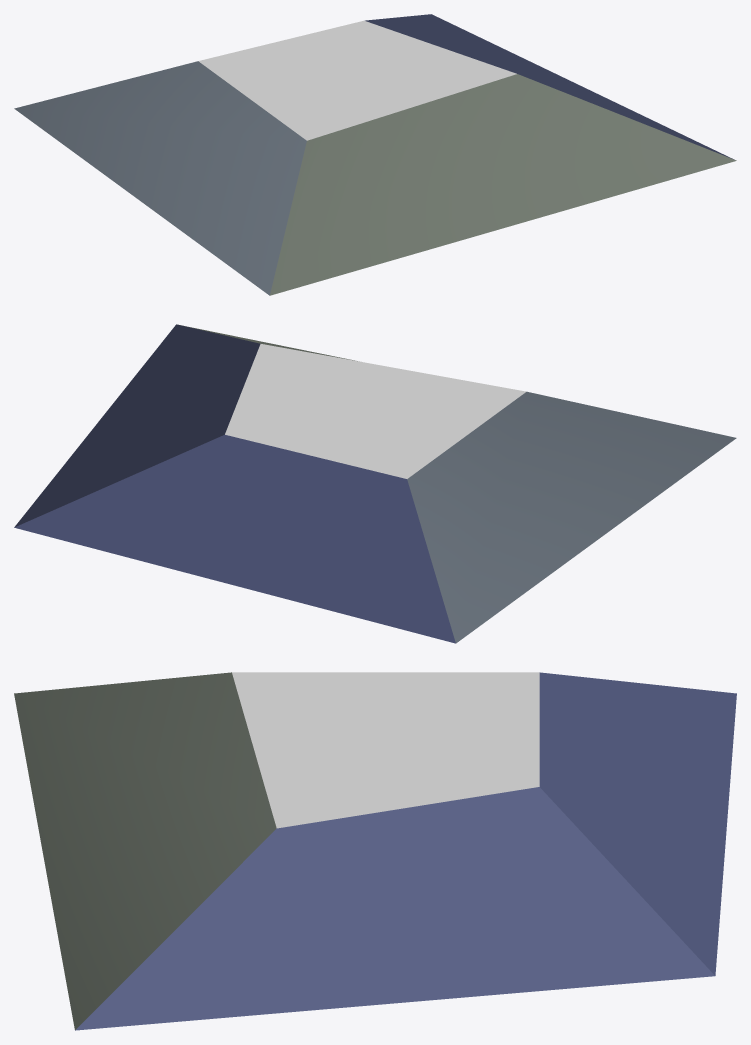
3 views of the same model, one above another, from view 1: azimuth 30°, elevation 25°; view 2: azimuth 150°, elevation 25°; view 3: azimuth 270°, elevation 25° (orthographic). The views are drawn at different scales.
Parts seen in each view (by area): view 1: Pyramid, PyramidTop; view 2: Pyramid, PyramidTop; view 3: Pyramid, PyramidTop.
Part boxes in pixels (x1,y1,x2,y2): Pyramid: (14,14,736,295); PyramidTop: (198,20,516,140); Pyramid: (14,324,736,643); PyramidTop: (225,344,525,478); Pyramid: (14,672,736,1030); PyramidTop: (232,672,539,828).
Size of the model in its own units: 4340 by 600 by 3934.
